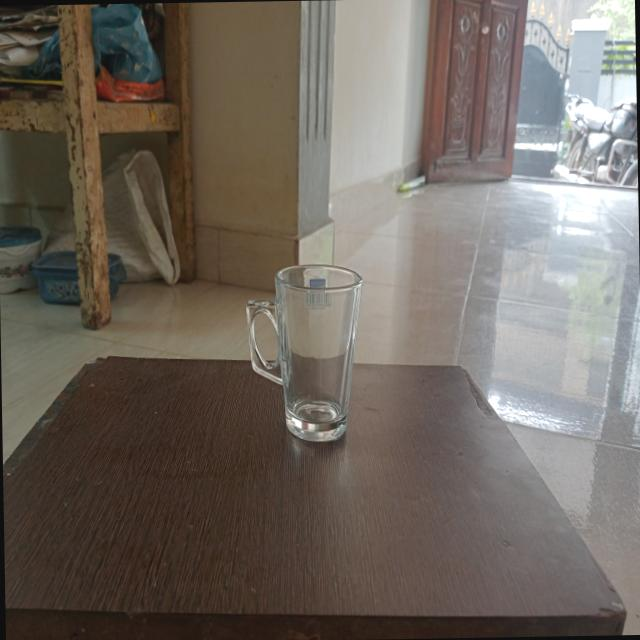glass-VX4N: (245, 262, 365, 448)
